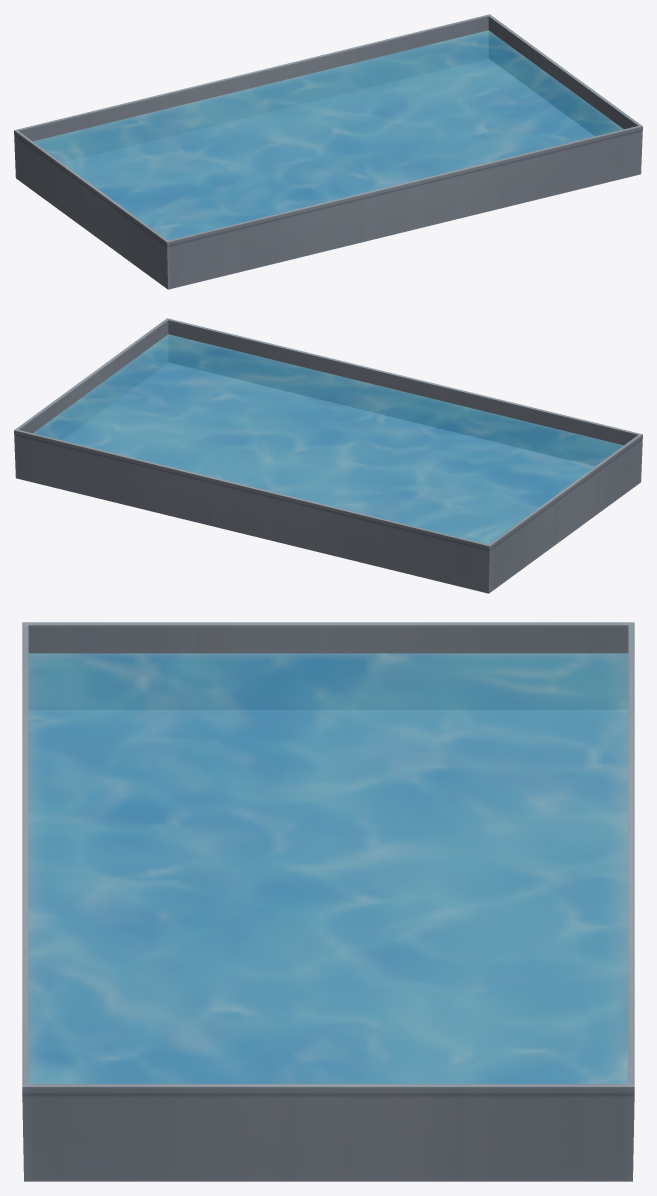
File: jsf_Aquarium_03.fbx
The picture shows the model from 3 angles, top to bottom: view 1: azimuth 30°, elevation 25°; view 2: azimuth 150°, elevation 25°; view 3: azimuth 270°, elevation 25°; orthographic projection. The views are drawn at different scales.
Visible parts, largest first — view 1: Aquarium, Watersurface; view 2: Aquarium, Watersurface; view 3: Aquarium, Watersurface.
Boxes of the visible parts, left/top/right/bottom form: Aquarium: left=14, top=14, right=642, bottom=289; Watersurface: left=33, top=30, right=623, bottom=240; Aquarium: left=14, top=318, right=642, bottom=593; Watersurface: left=33, top=334, right=623, bottom=544; Aquarium: left=22, top=622, right=634, bottom=1181; Watersurface: left=28, top=653, right=628, bottom=1083.
Size of the model in its own units: 83 by 8 by 46.27.
